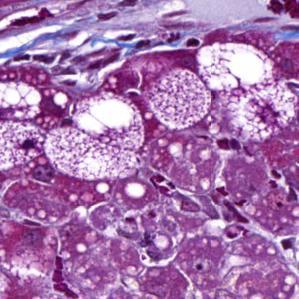ballooning: (43, 125, 145, 183), (210, 76, 297, 142), (69, 89, 148, 152), (195, 41, 277, 93), (0, 116, 49, 175), (0, 81, 44, 120)
